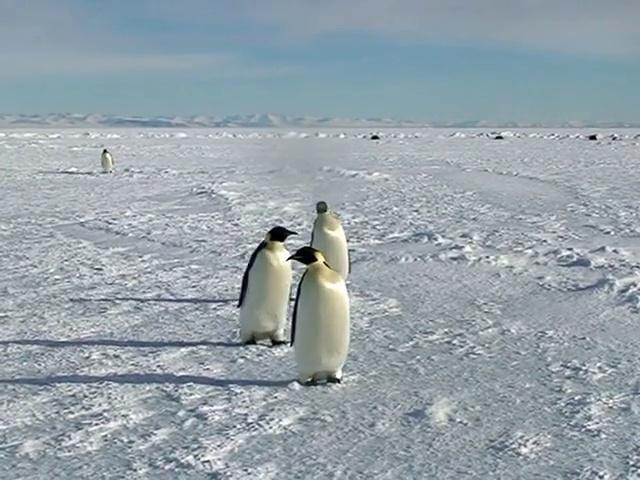animal: (311, 202, 352, 280)
